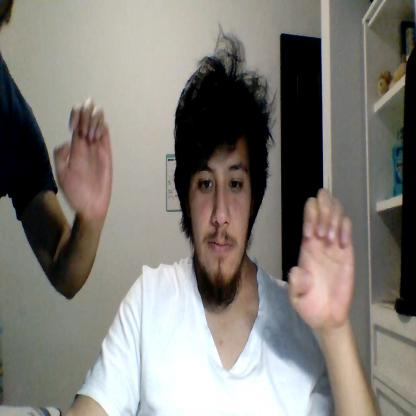E: (290, 189, 354, 331), (53, 99, 113, 220)
